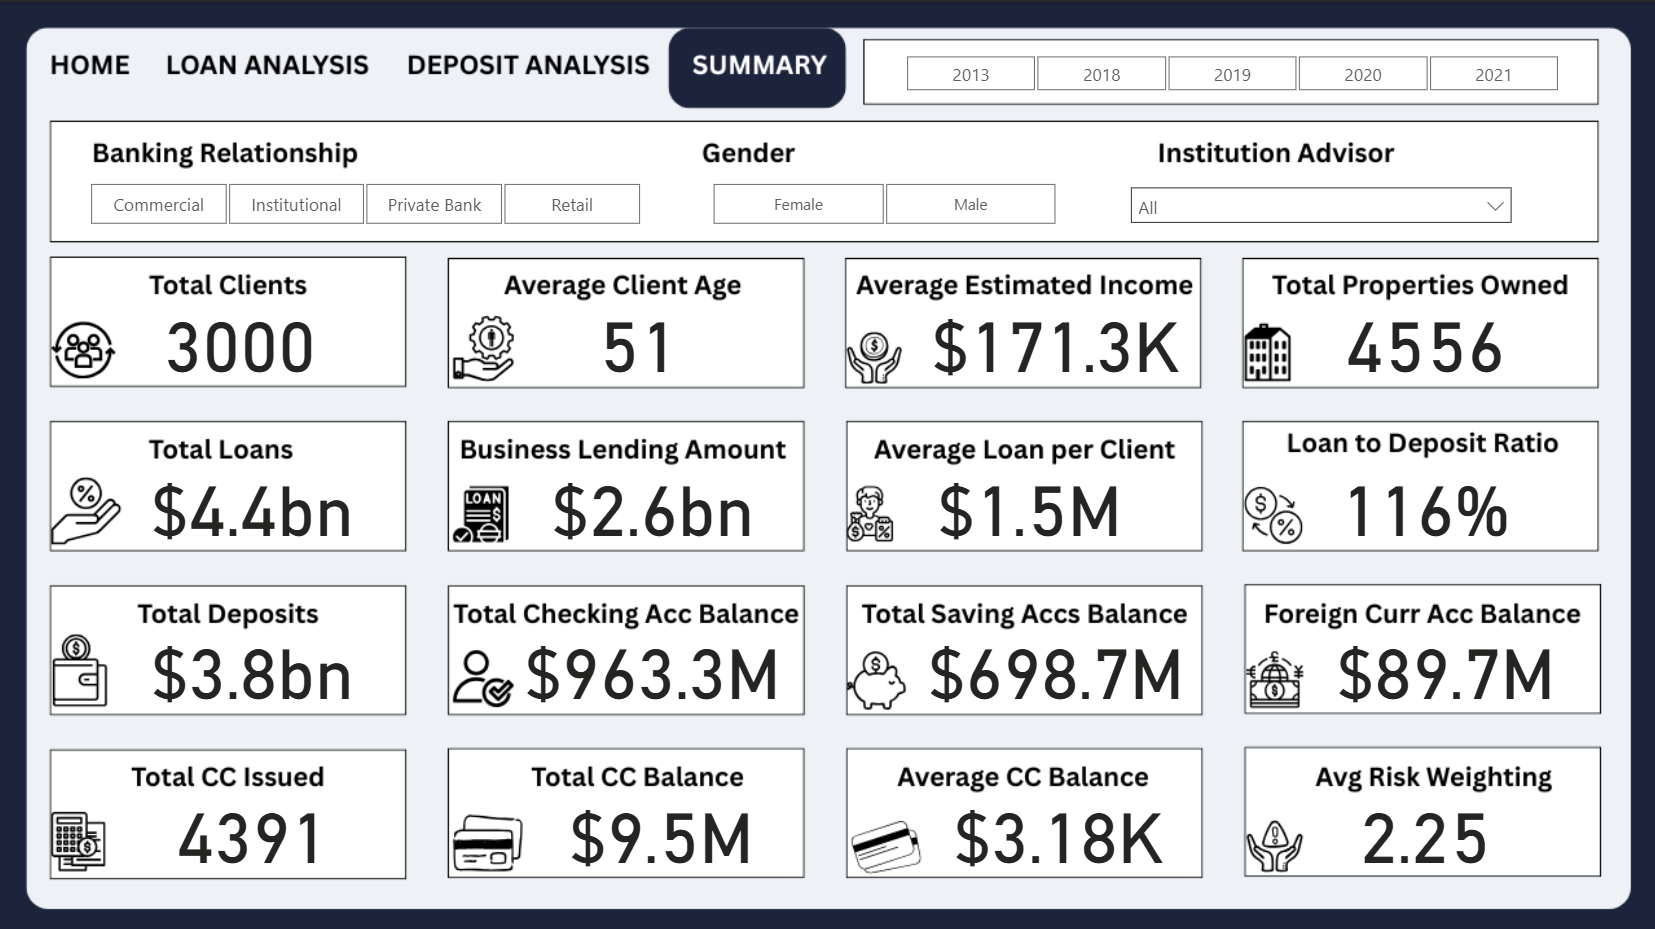

The dashboard page shown, as its layout file describes it:
{"tool":"powerbi","page":{"name":"Summary","canvas":[1280,720],"ordinal":3},"visuals":[{"type":"card","fields":{"Values":["CountNonNull(banking_case banking.Name)"]},"box":[100.8,224.8,170.3,69.5],"z":1000},{"type":"card","fields":{"Values":["Measure.Average Client Age"]},"box":[407.9,224.8,170.3,69.5],"z":2000},{"type":"card","fields":{"Values":["Measure.Average Estimated Income"]},"box":[710.3,224.8,210.9,69.5],"z":3000},{"type":"card","fields":{"Values":["Measure.Total Properties Owned"]},"box":[1016.2,224.8,170.3,69.5],"z":4000},{"type":"card","fields":{"Values":["Measure.Total Loan"]},"box":[110.1,351.1,170.3,69.5],"z":5000},{"type":"card","fields":{"Values":["Measure.Average Loan per client"]},"box":[710.3,351.1,170.3,69.5],"z":6000},{"type":"card","fields":{"Values":["Measure.Business Lending"]},"box":[419.5,351.1,170.3,69.5],"z":7000},{"type":"card","fields":{"Values":["Measure.Checking Accounts"]},"box":[396.3,477.4,215.5,69.5],"z":8000},{"type":"card","fields":{"Values":["Measure.Total Credit card balance"]},"box":[426.4,603.7,169.2,69.5],"z":9000},{"type":"card","fields":{"Values":["Measure.Total credit cards issued"]},"box":[110.1,603.7,170.3,69.5],"z":10000},{"type":"card","fields":{"Values":["Measure.Total Deposit"]},"box":[110.1,477.4,170.3,69.5],"z":11000},{"type":"card","fields":{"Values":["Measure.foriegn currency accounts"]},"box":[1016.2,477.4,201.6,69.5],"z":12000},{"type":"card","fields":{"Values":["Measure.Loan to Deposit Ratio"]},"box":[1016.2,351.1,170.3,69.5],"z":13000},{"type":"card","fields":{"Values":["Measure.Saving Accounts"]},"box":[710.3,477.4,210.9,69.5],"z":15000},{"type":"card","fields":{"Values":["Measure.Average Risk Weighting"]},"box":[1016.2,603.7,170.3,69.5],"z":16000},{"type":"slicer","fields":{"Values":["banking_case banking.BRId"]},"box":[45.2,133.3,473.9,45.2],"z":17000},{"type":"slicer","fields":{"Values":["banking_case banking.GenderId"]},"box":[526.1,133.3,314,45.2],"z":18000},{"type":"slicer","fields":{"Values":["banking_case banking.IAId"]},"box":[864.4,133.3,314,45.2],"z":19000},{"type":"slicer","fields":{"Values":["banking_case banking.Year of Joining"]},"box":[675.5,34.8,552.7,40.6],"z":20000},{"type":"actionButton","box":[304.7,23.2,206.3,63.7],"z":21000},{"type":"actionButton","box":[118.2,23.2,177.3,63.7],"z":22000},{"type":"actionButton","box":[30.1,24.3,80,63.7],"z":23000},{"type":"card","fields":{"Values":["Measure.Average credit card balance"]},"box":[731.2,603.7,173.8,69.5],"z":23001}]}

Visuals, with their boxes in screenshot pixels (x1, y1, x2, y2), scaled from the page's 1280x720 canvas onto the 1655x929 screenshot:
card - CountNonNull(banking_case banking.Name): select_region(130, 290, 351, 380)
card - Measure.Average Client Age: select_region(527, 290, 748, 380)
card - Measure.Average Estimated Income: select_region(918, 290, 1191, 380)
card - Measure.Total Properties Owned: select_region(1314, 290, 1534, 380)
card - Measure.Total Loan: select_region(142, 453, 363, 543)
card - Measure.Average Loan per client: select_region(918, 453, 1139, 543)
card - Measure.Business Lending: select_region(542, 453, 763, 543)
card - Measure.Checking Accounts: select_region(512, 616, 791, 706)
card - Measure.Total Credit card balance: select_region(551, 779, 770, 869)
card - Measure.Total credit cards issued: select_region(142, 779, 363, 869)
card - Measure.Total Deposit: select_region(142, 616, 363, 706)
card - Measure.foriegn currency accounts: select_region(1314, 616, 1575, 706)
card - Measure.Loan to Deposit Ratio: select_region(1314, 453, 1534, 543)
card - Measure.Saving Accounts: select_region(918, 616, 1191, 706)
card - Measure.Average Risk Weighting: select_region(1314, 779, 1534, 869)
slicer - banking_case banking.BRId: select_region(58, 172, 671, 230)
slicer - banking_case banking.GenderId: select_region(680, 172, 1086, 230)
slicer - banking_case banking.IAId: select_region(1118, 172, 1524, 230)
slicer - banking_case banking.Year of Joining: select_region(873, 45, 1588, 97)
actionButton: select_region(394, 30, 661, 112)
actionButton: select_region(153, 30, 382, 112)
actionButton: select_region(39, 31, 142, 114)
card - Measure.Average credit card balance: select_region(945, 779, 1170, 869)
